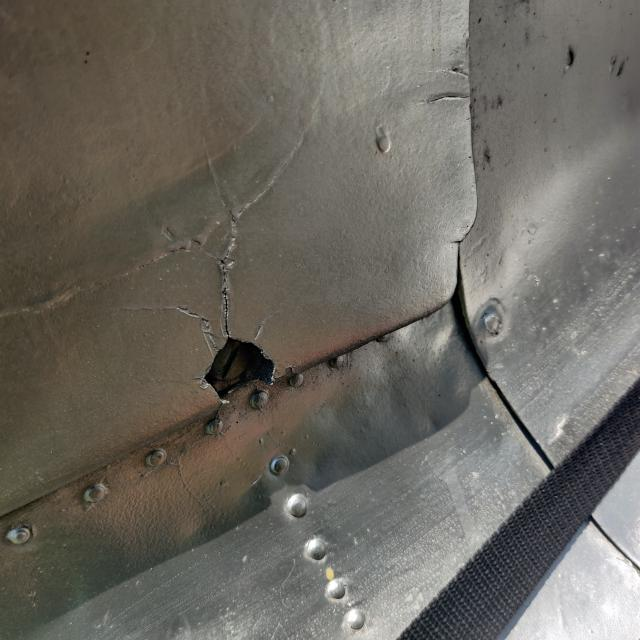crack: (158, 203, 320, 431)
